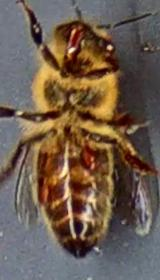varroa_mite: (69, 138, 103, 179), (32, 176, 56, 210)
